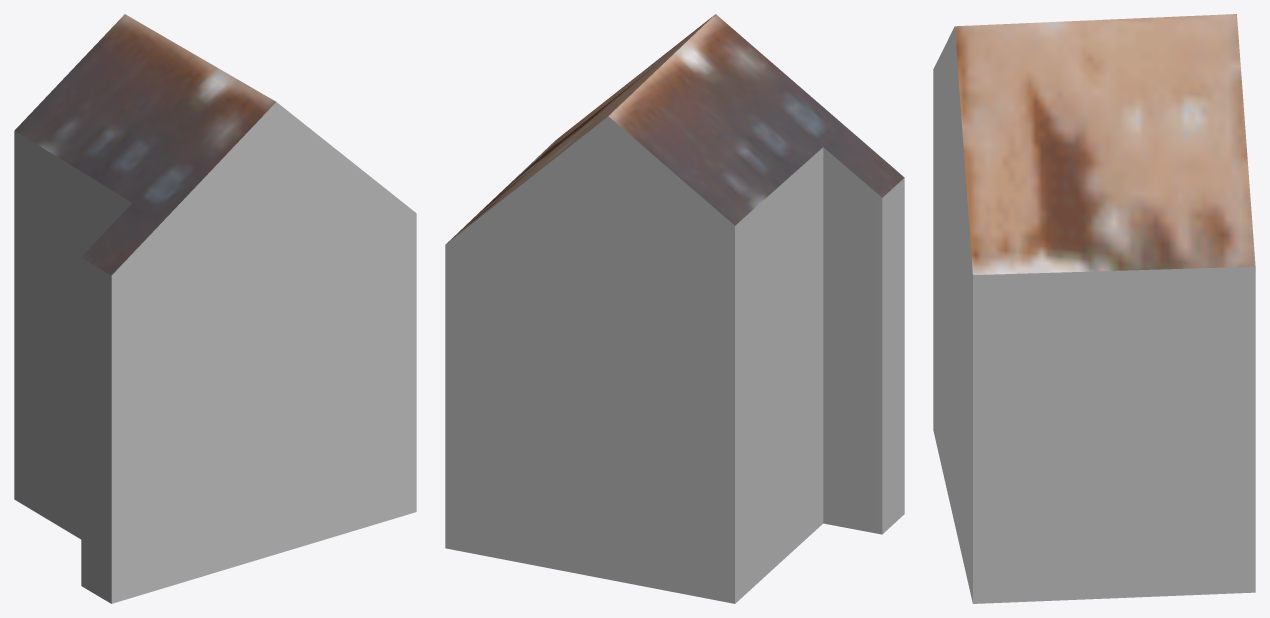
File: DEBW_0010007Tx8x.gltf
3 renders of one model, left to right at view 1: azimuth 30°, elevation 25°; view 2: azimuth 150°, elevation 25°; view 3: azimuth 270°, elevation 25°, orthographic. The views are drawn at different scales.
Visible parts, largest first — view 1: Z_UP; view 2: Z_UP; view 3: Z_UP.
Part boxes in pixels (<box>): Z_UP: <box>14,14,416,603</box>; Z_UP: <box>445,14,904,603</box>; Z_UP: <box>933,14,1255,603</box>.
Bounding box in the file's own units: 13.79 × 18.21 × 10.68.
2 materials, 1 textured.
